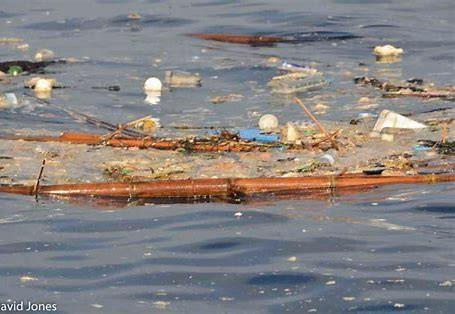Plastic: (277, 76, 332, 93), (165, 69, 203, 86), (374, 43, 406, 60)
